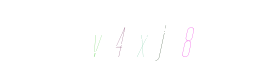4: (85, 0, 165, 80)
8: (148, 0, 228, 80)
J: (111, 0, 191, 80)
V: (81, 0, 161, 80)
X: (97, 0, 177, 80)
